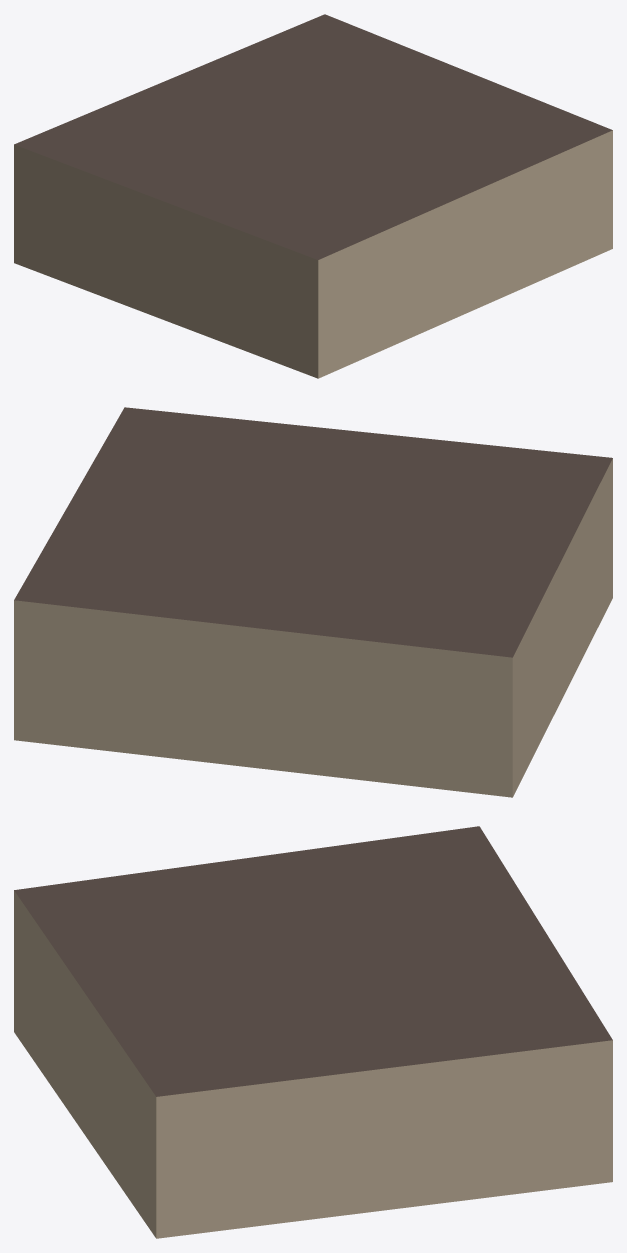
3 views of the same model, one above another, from view 1: azimuth 30°, elevation 25°; view 2: azimuth 150°, elevation 25°; view 3: azimuth 270°, elevation 25° (orthographic). The views are drawn at different scales.
Parts seen in each view (by area): view 1: HP-w288650730; view 2: HP-w288650730; view 3: HP-w288650730.
Part boxes in pixels (bbox=[...]): HP-w288650730: bbox=[14, 14, 612, 378]; HP-w288650730: bbox=[14, 407, 612, 797]; HP-w288650730: bbox=[14, 826, 612, 1238].
Bounding box in the file's own units: 36.84 × 9 × 34.44.
